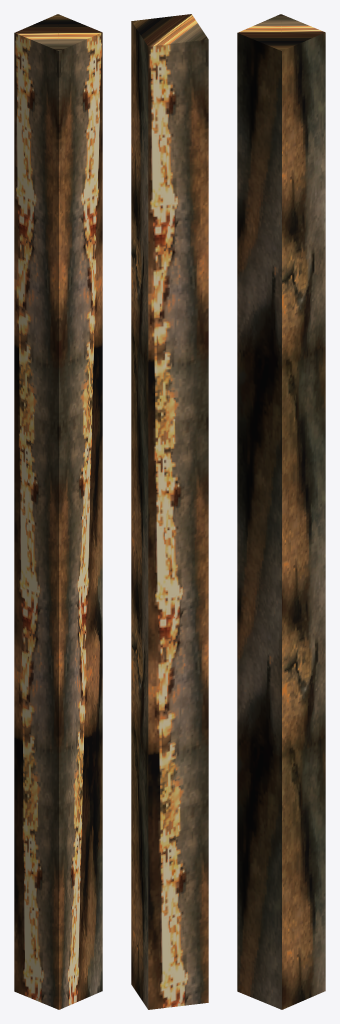
The model's file is ColdZone_Log_S_1.gltf.
3 renders of one model, left to right at view 1: azimuth 90°, elevation 25°; view 2: azimuth 150°, elevation 25°; view 3: azimuth 270°, elevation 25°, orthographic.
Visible parts, largest first — view 1: ColdZone_Log_S_1; view 2: ColdZone_Log_S_1; view 3: ColdZone_Log_S_1.
Boxes of the visible parts, bbox=[...] form: ColdZone_Log_S_1: bbox=[14, 14, 102, 1009]; ColdZone_Log_S_1: bbox=[131, 14, 208, 1009]; ColdZone_Log_S_1: bbox=[237, 14, 325, 1009].
Bounding box in the file's own units: 0.9524 × 11.44 × 0.9524.
Materials: 1 (1 with a texture image).
